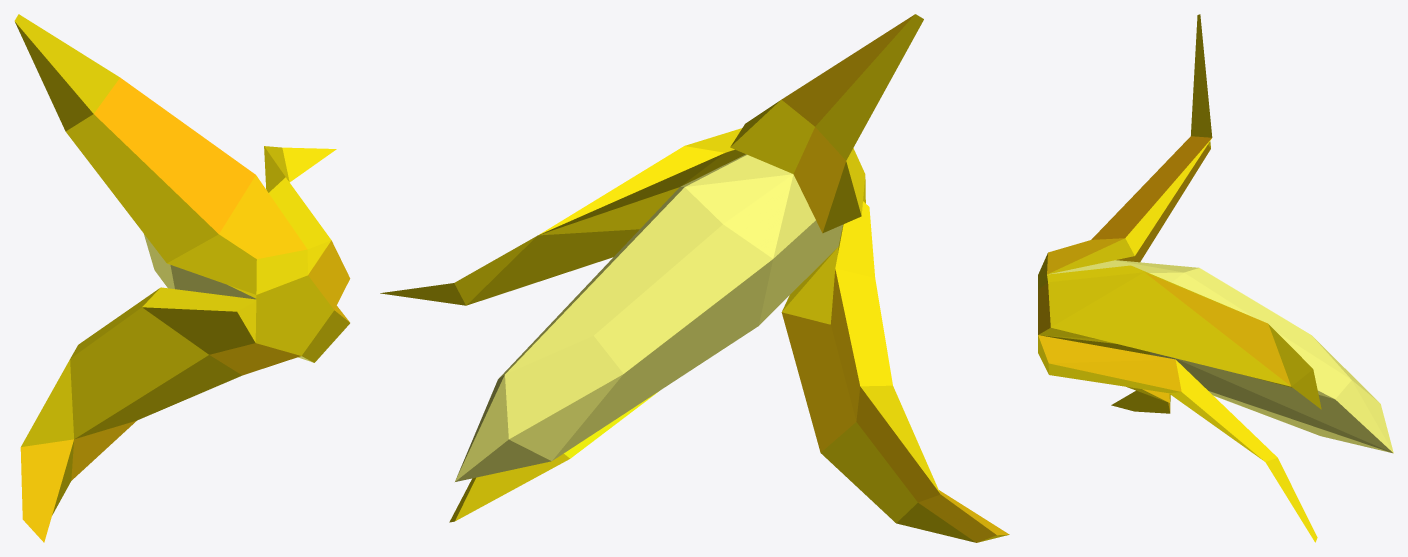
The model's file is banana.fbx.
3 views of the same model, side by side, from view 1: azimuth 30°, elevation 25°; view 2: azimuth 150°, elevation 25°; view 3: azimuth 270°, elevation 25° (orthographic). The views are drawn at different scales.
Visible parts, largest first — view 1: Cylinder.002; view 2: Cylinder.002; view 3: Cylinder.002.
Part boxes in pixels (x1,y1,x2,y2): Cylinder.002: (14, 14, 350, 542); Cylinder.002: (380, 14, 1009, 542); Cylinder.002: (1038, 14, 1393, 542).
Bounding box in the file's own units: 30.53 × 33.21 × 26.57.
